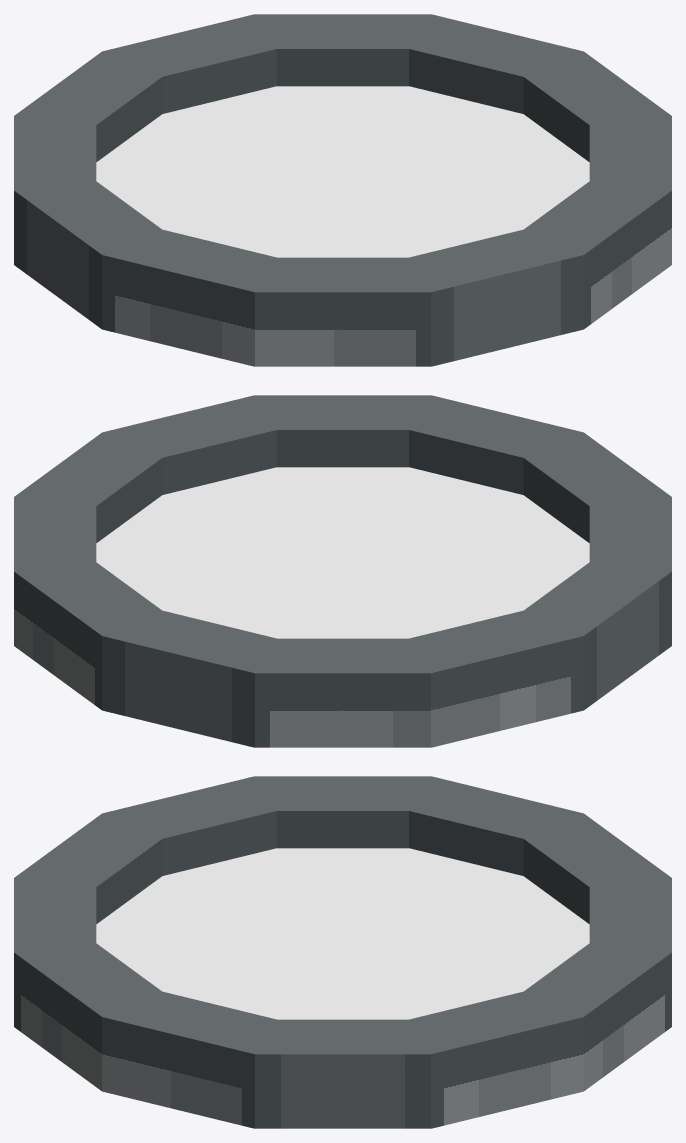
File: portal.fbx
3 views of the same model, one above another, from view 1: azimuth 30°, elevation 25°; view 2: azimuth 150°, elevation 25°; view 3: azimuth 270°, elevation 25° (orthographic).
Parts seen in each view (by area): view 1: Portal; view 2: Portal; view 3: Portal.
Boxes of the visible parts, x1=… form: Portal: x1=14, y1=14, x2=671, y2=366; Portal: x1=14, y1=395, x2=671, y2=747; Portal: x1=14, y1=776, x2=671, y2=1128.
Bounding box in the file's own units: 100 × 12.5 × 100.
1 material, 1 textured.
